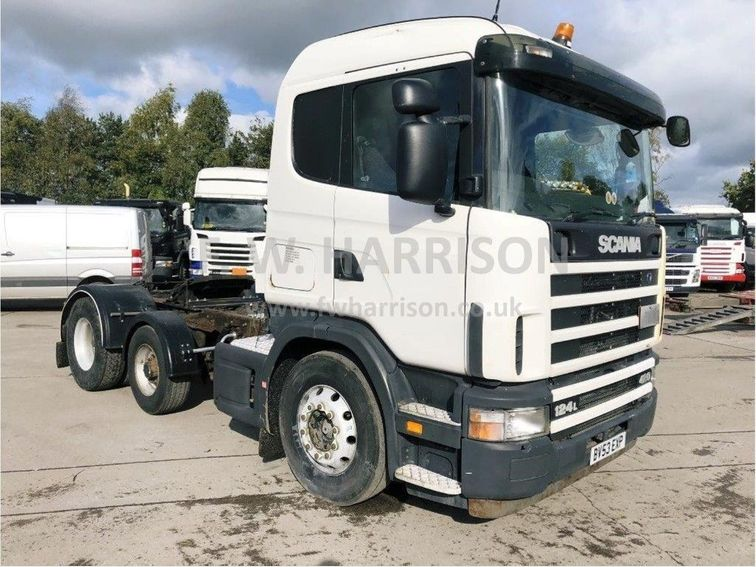Semi: (54, 15, 690, 519), (182, 166, 268, 284)
